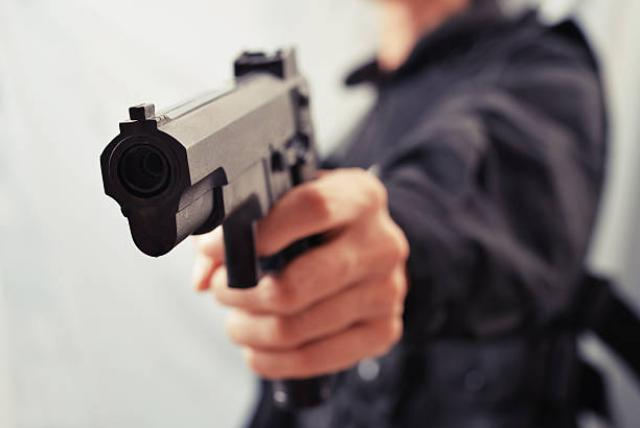handgun: (93, 40, 361, 418)
